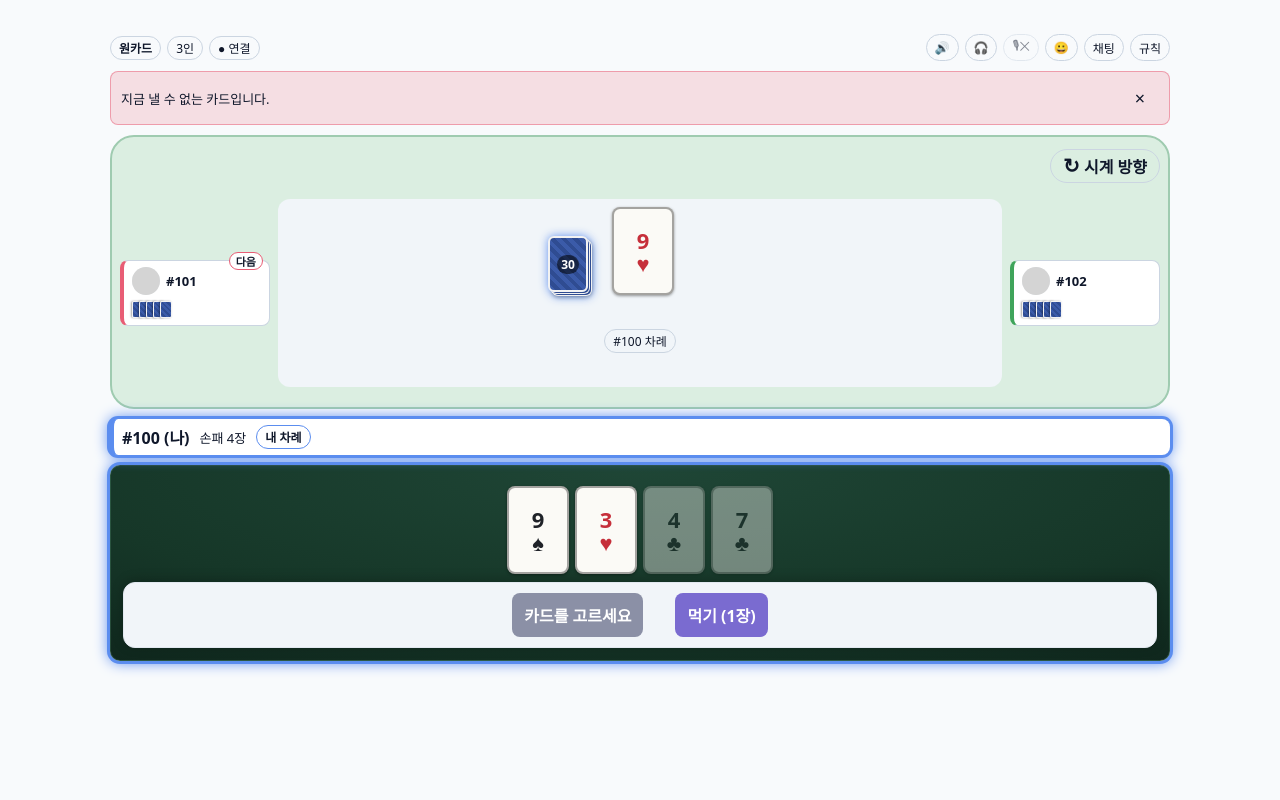
OneCardTable — 내기·먹기 › 거절 문구를 보여 주고 닫을 수 있다
The width and height of the screenshot is (1280, 800).
Expected: the message shows "지금 낼 수 없는 카드입니다.", [121,90,270,108]
Click the button named "닫기" at [1140, 98], box [1121,78,1159,118]
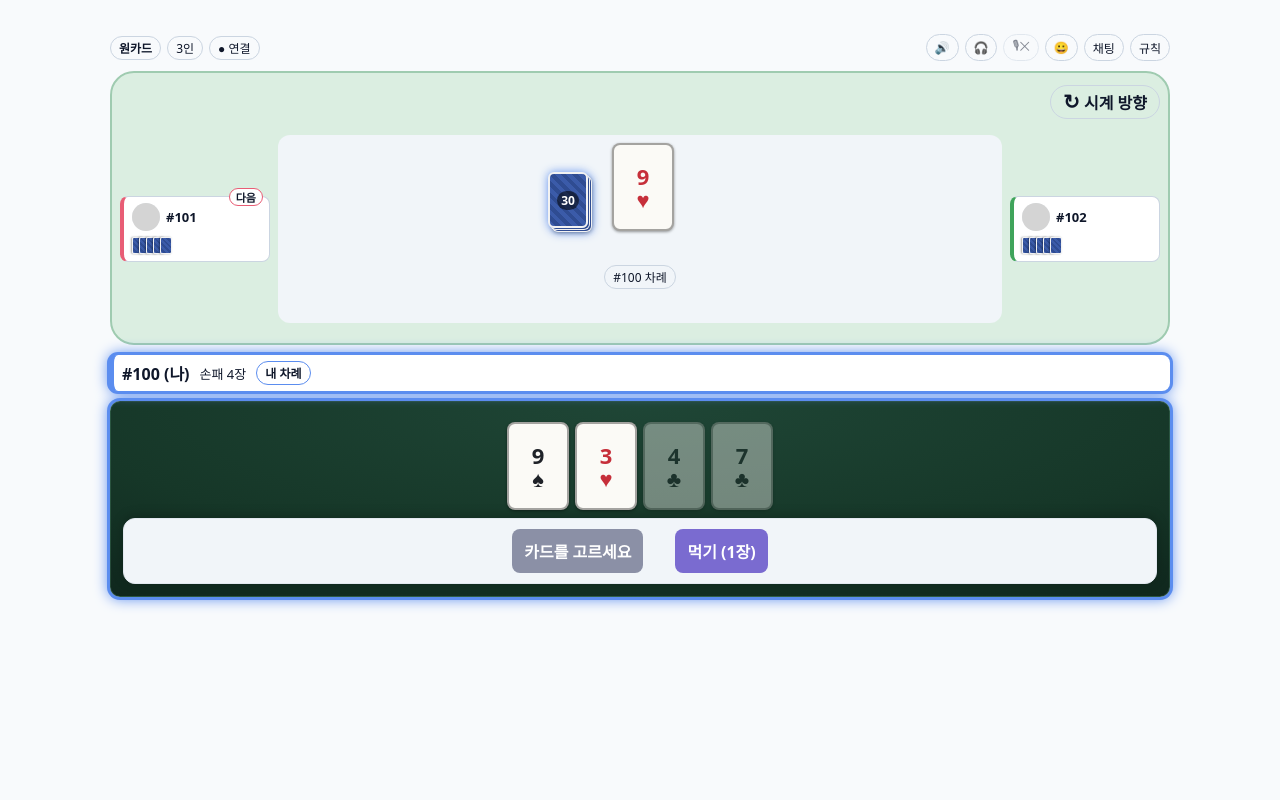
Result: the message "지금 낼 수 없는 카드입니다. ×" is gone
